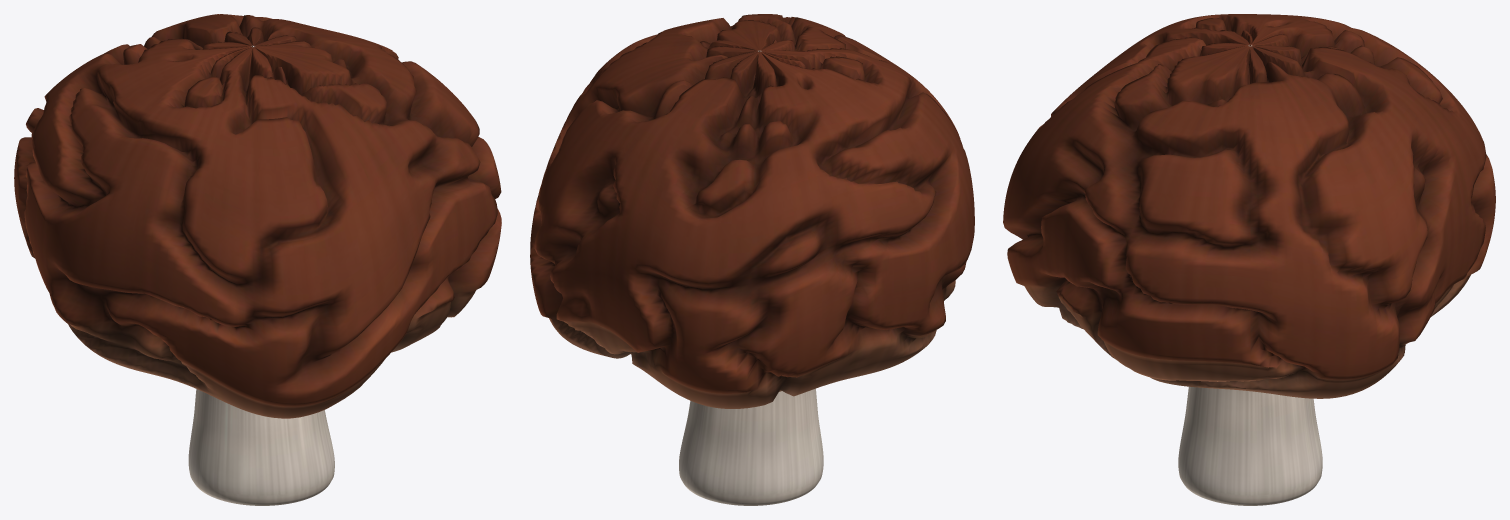
The model's file is gyromitra-esculenta-drawn.glb.
3 views of the same model, side by side, from view 1: azimuth 30°, elevation 25°; view 2: azimuth 150°, elevation 25°; view 3: azimuth 270°, elevation 25° (orthographic).
Bounding box in the file's own units: 0.8527 × 0.8924 × 0.9214.
1 material, 1 textured.
